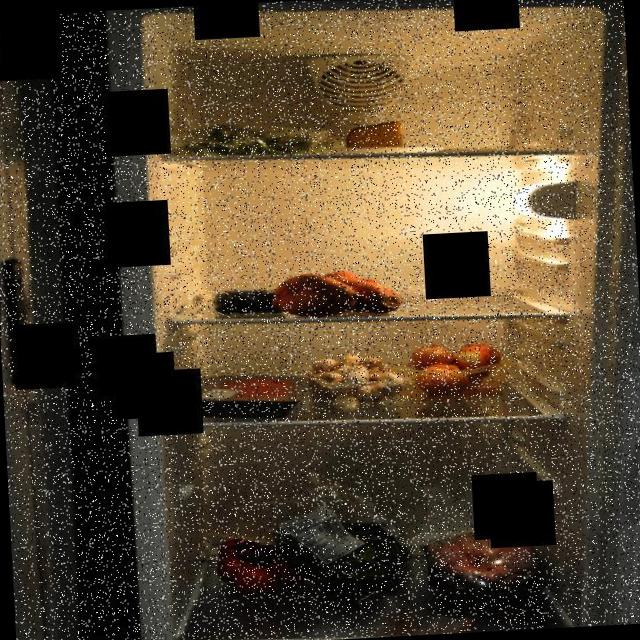Carne pollo: (414, 522, 554, 612)
Carne vacuno: (199, 369, 297, 414)
Cebolla: (407, 338, 511, 402)
Champiñones: (294, 345, 420, 416)
Queso: (344, 116, 408, 154)
Tomate: (207, 527, 319, 602)
